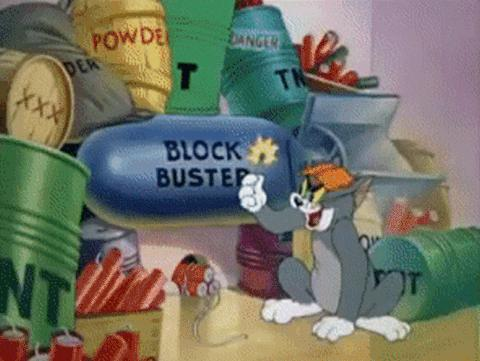tom: (237, 162, 414, 346)
